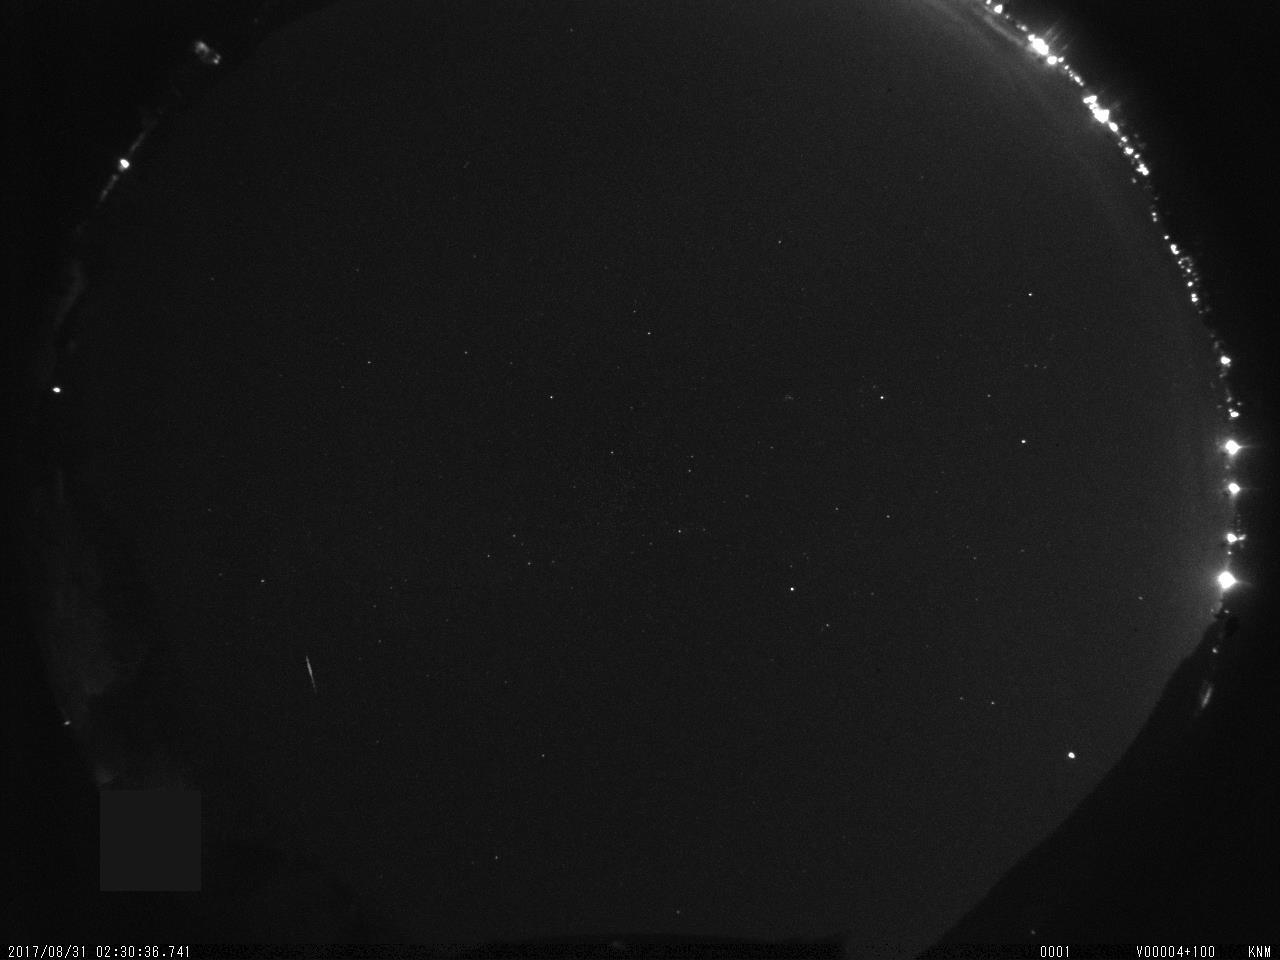meteor: (279, 643, 337, 713)
